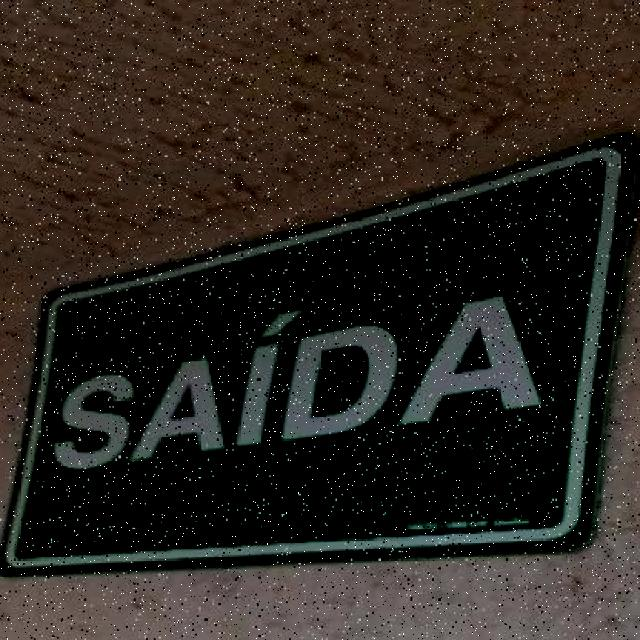emergency_exit: (2, 132, 636, 576)
